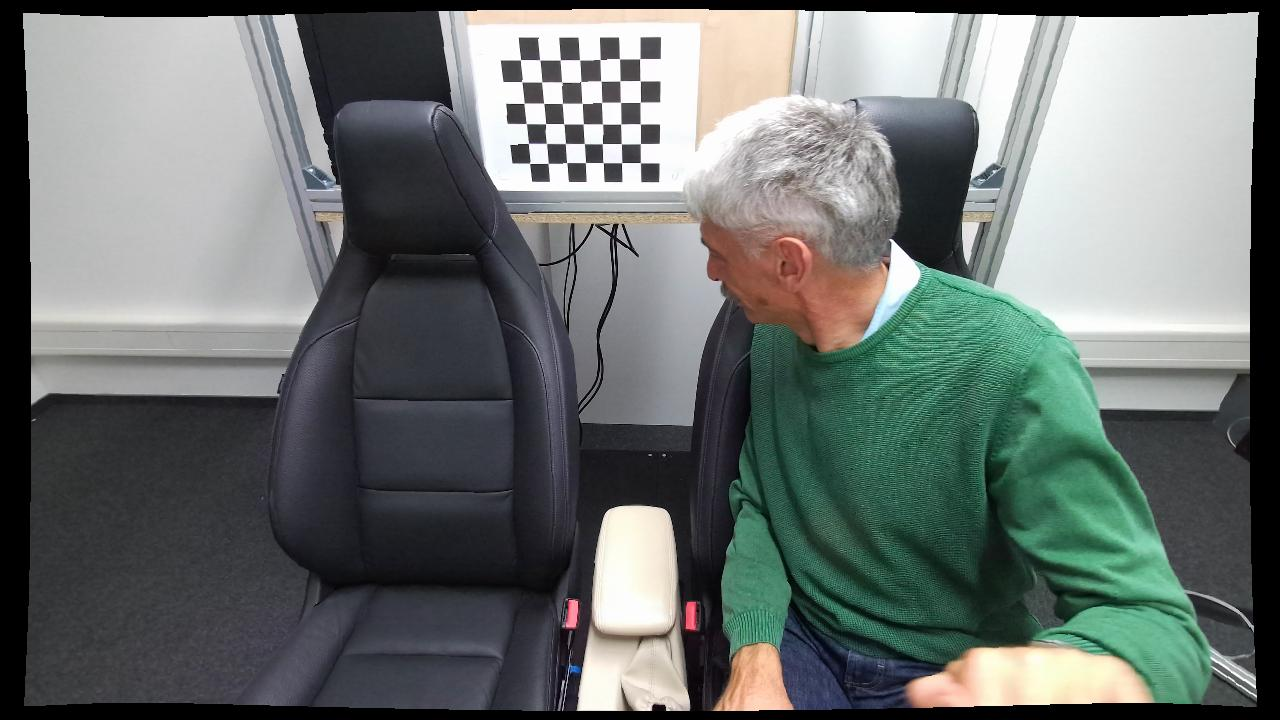Distracted: (681, 85, 1180, 713)
